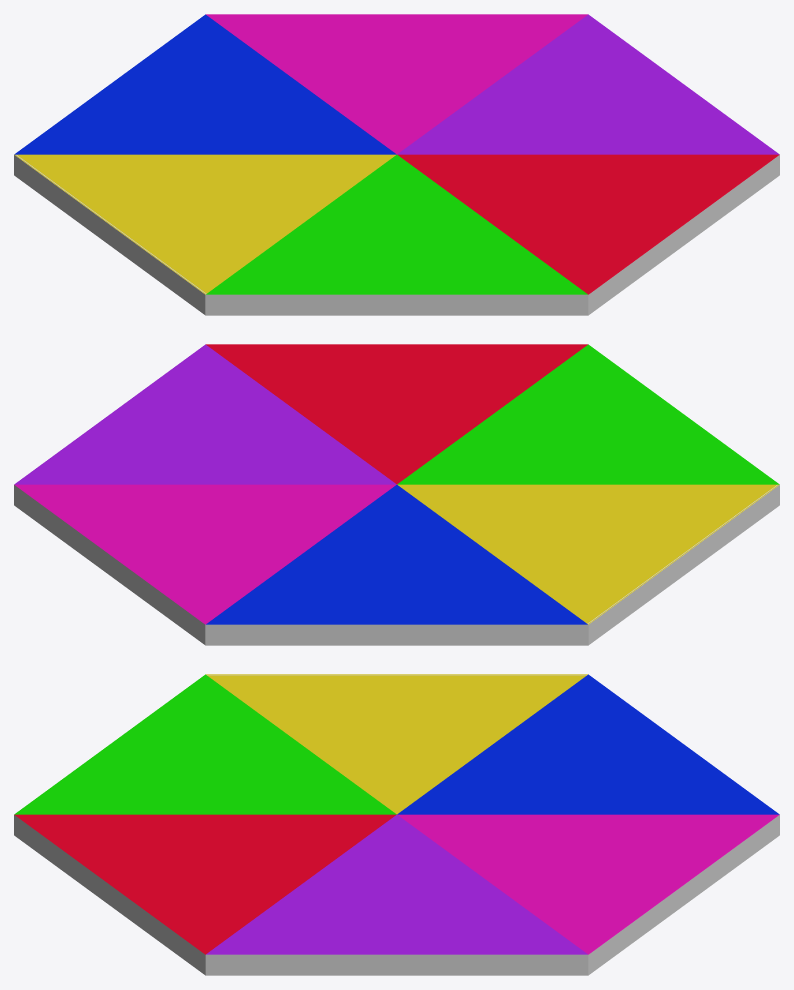
Rendered from hex.fbx.
The picture shows the model from 3 angles, top to bottom: view 1: azimuth 30°, elevation 25°; view 2: azimuth 150°, elevation 25°; view 3: azimuth 270°, elevation 25°; orthographic projection.
Visible parts, largest first — view 1: hex; view 2: hex; view 3: hex.
Boxes of the visible parts, x1=… form: hex: x1=14, y1=14, x2=779, y2=315; hex: x1=14, y1=344, x2=779, y2=645; hex: x1=14, y1=674, x2=779, y2=975.
Size of the model in its own units: 173 by 6 by 200.
